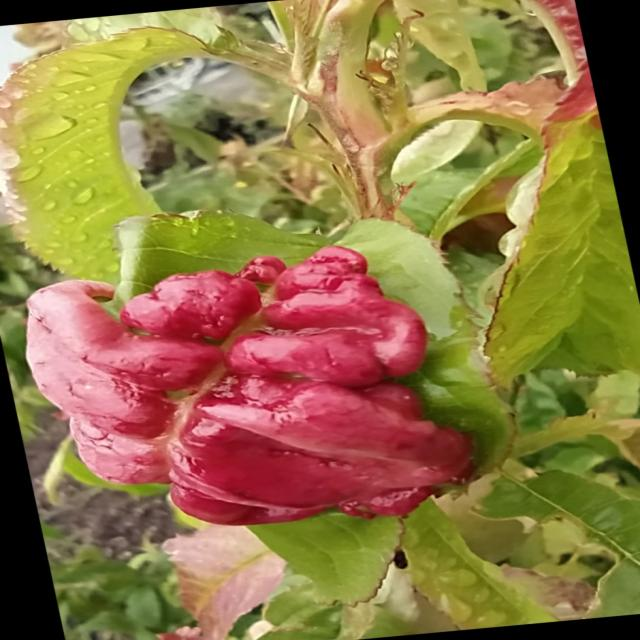peach_leaf_curl: (24, 243, 476, 527)
